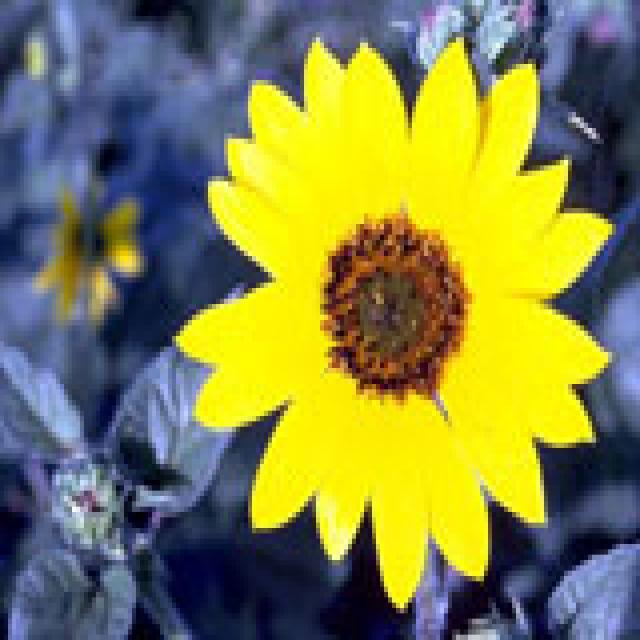sunflower: (162, 25, 623, 624), (23, 158, 157, 342)
